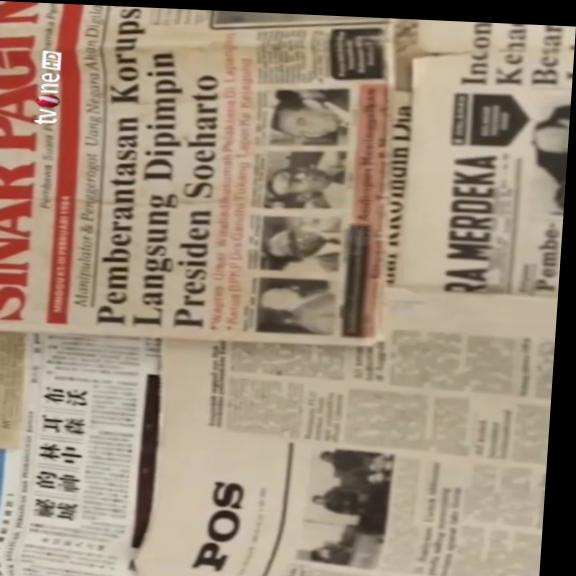Kertas: (0, 3, 403, 347), (140, 309, 556, 576)
